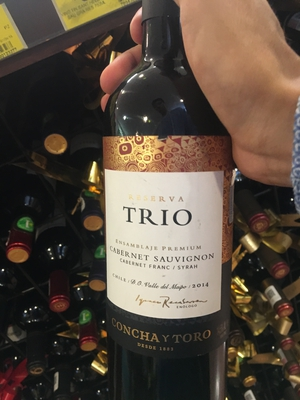trio cabernet sauvignon: (71, 14, 245, 382)
